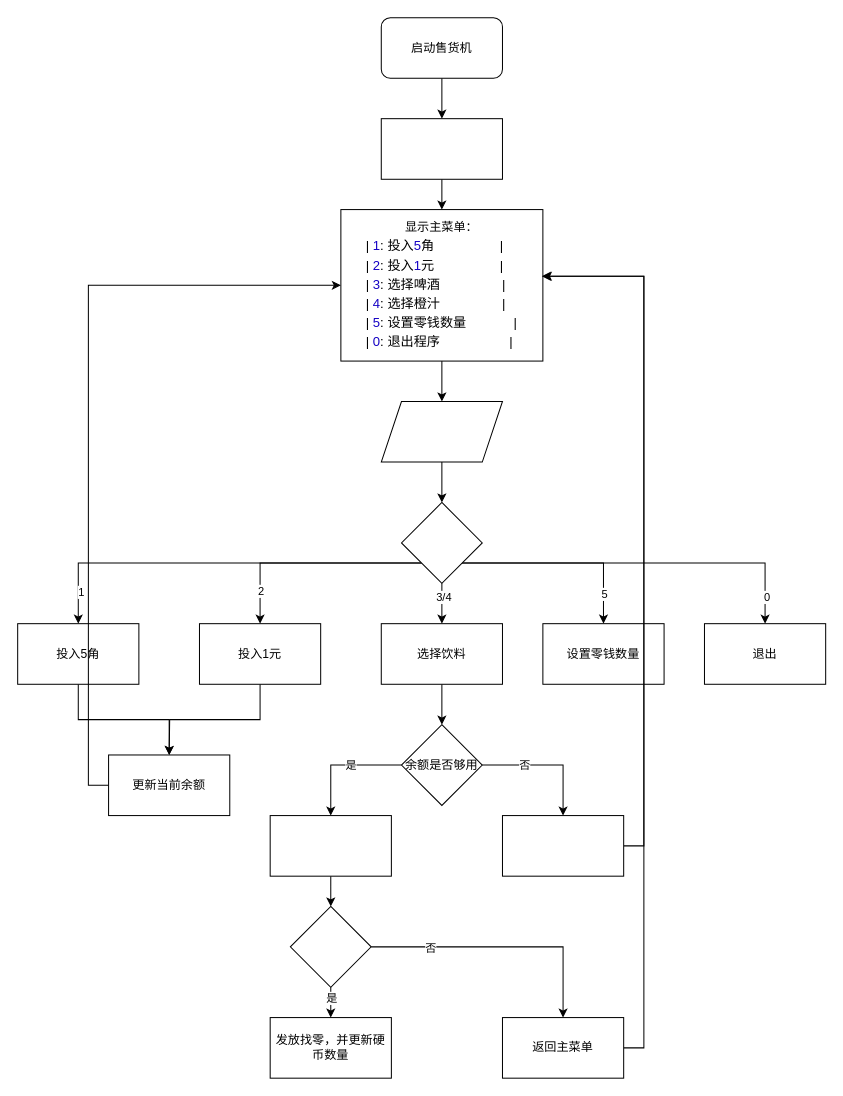
This 843x1096 diagram has some shape labels left out. Here are the shapes that lost their labels. From the top down, the centre of each, then its label:
point 441,148: 初始化售货机 设置零钱和硬币数量等参数
point 441,431: 用户输入菜单选项
point 441,542: 选择操作
point 330,845: 发放饮料，更新余额
point 562,845: 余额不足，返回主菜单
point 330,946: 是否找零
